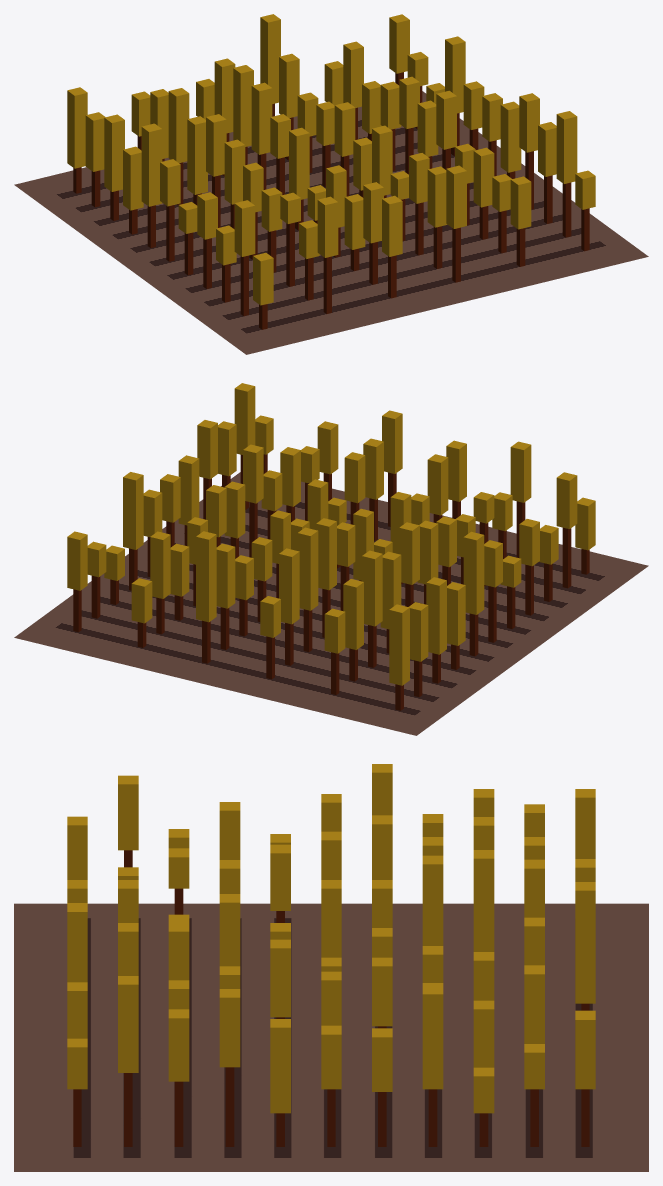
Rendered from WheatFieldLand66%.obj.
3 views of the same model, one above another, from view 1: azimuth 30°, elevation 25°; view 2: azimuth 150°, elevation 25°; view 3: azimuth 270°, elevation 25° (orthographic). The views are drawn at different scales.
Parts seen in each view (by area): view 1: Land_66%_Plane.011_WheatLeaf, Land_66%_Plane.011_WheatFieldFloor, Land_66%_Plane.011_WheatStem; view 2: Land_66%_Plane.011_WheatLeaf, Land_66%_Plane.011_WheatFieldFloor, Land_66%_Plane.011_WheatStem; view 3: Land_66%_Plane.011_WheatFieldFloor, Land_66%_Plane.011_WheatLeaf, Land_66%_Plane.011_WheatStem.
Part boxes in pixels (box(x1,y1,x2,y2)): Land_66%_Plane.011_WheatLeaf: box(67, 14, 595, 305); Land_66%_Plane.011_WheatFieldFloor: box(14, 91, 648, 354); Land_66%_Plane.011_WheatStem: box(73, 72, 589, 329); Land_66%_Plane.011_WheatLeaf: box(67, 383, 595, 685); Land_66%_Plane.011_WheatFieldFloor: box(14, 472, 648, 735); Land_66%_Plane.011_WheatStem: box(73, 454, 589, 710); Land_66%_Plane.011_WheatFieldFloor: box(14, 903, 648, 1171); Land_66%_Plane.011_WheatLeaf: box(67, 764, 595, 1113); Land_66%_Plane.011_WheatStem: box(73, 850, 589, 1146).
Bounding box in the file's own units: 2 × 0.6005 × 2.
3 materials, 1 textured.
